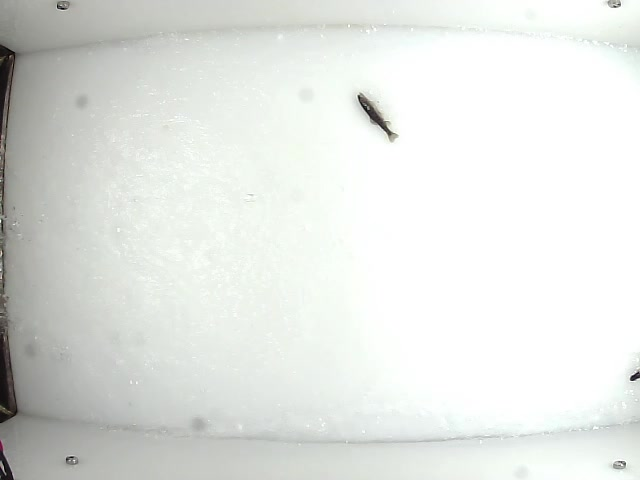fish: (355, 90, 400, 145)
